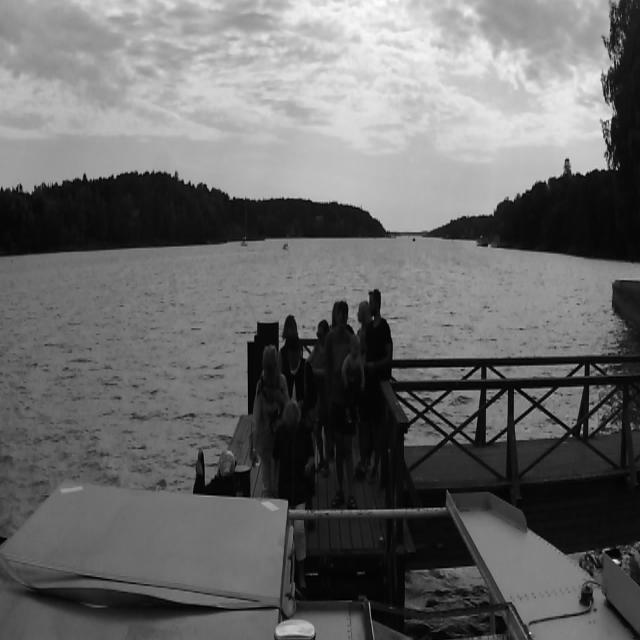ship: (236, 203, 248, 255), (278, 241, 292, 251)
